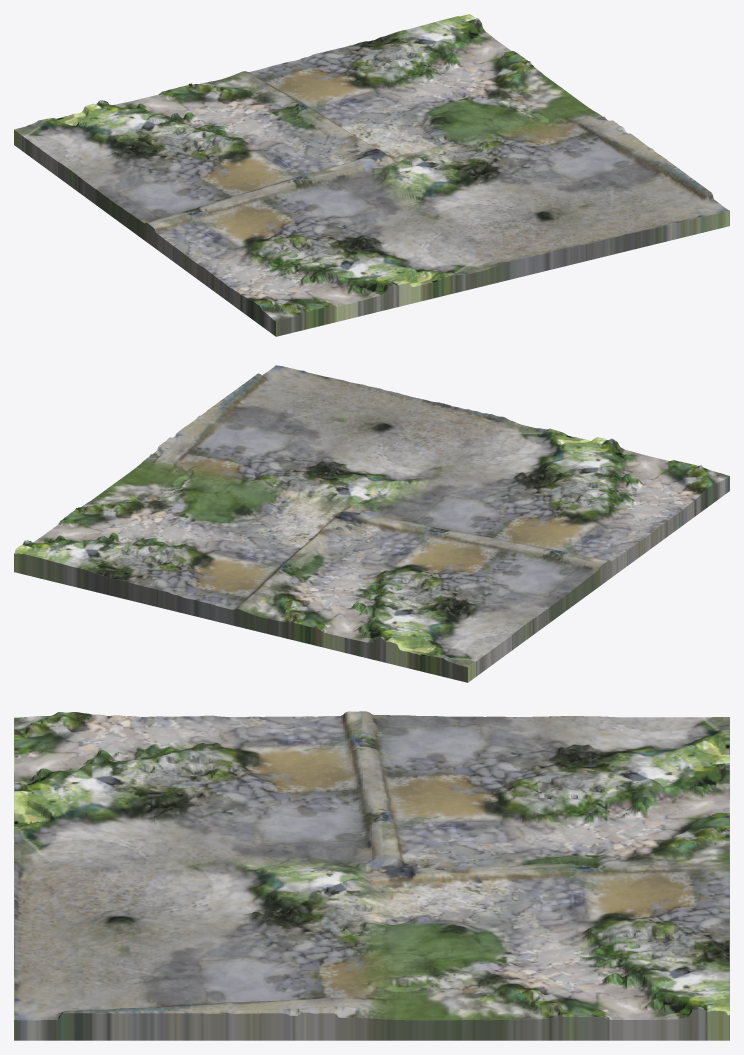
Rendered from verti_arena_low.dae.
3 renders of one model, top to bottom at view 1: azimuth 30°, elevation 25°; view 2: azimuth 150°, elevation 25°; view 3: azimuth 270°, elevation 25°, orthographic. The views are drawn at different scales.
Parts seen in each view (by area): view 1: terrain; view 2: terrain; view 3: terrain.
Boxes of the visible parts, x1,y1,x2,y2 form: terrain: (14, 14, 729, 336); terrain: (14, 365, 729, 682); terrain: (14, 711, 729, 1040).
Size of the model in its own units: 8 by 8 by 0.4.
Materials: 1 (1 with a texture image).
